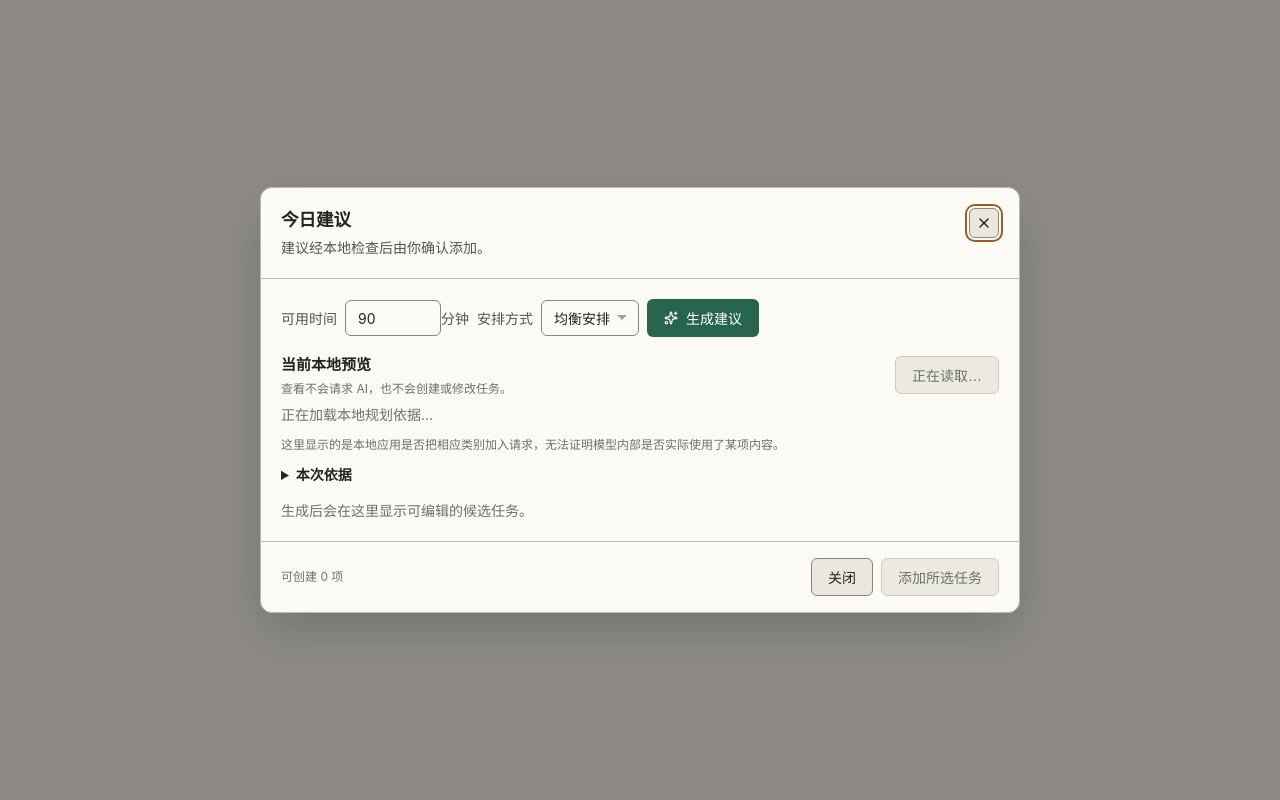
Test: TodayActionSuggestionDialog › distinguishes the first generation from replacement and starts B with fresh candidate state
Click the button with test id "ai-plan-generate": (703, 318) [647,299,759,337]
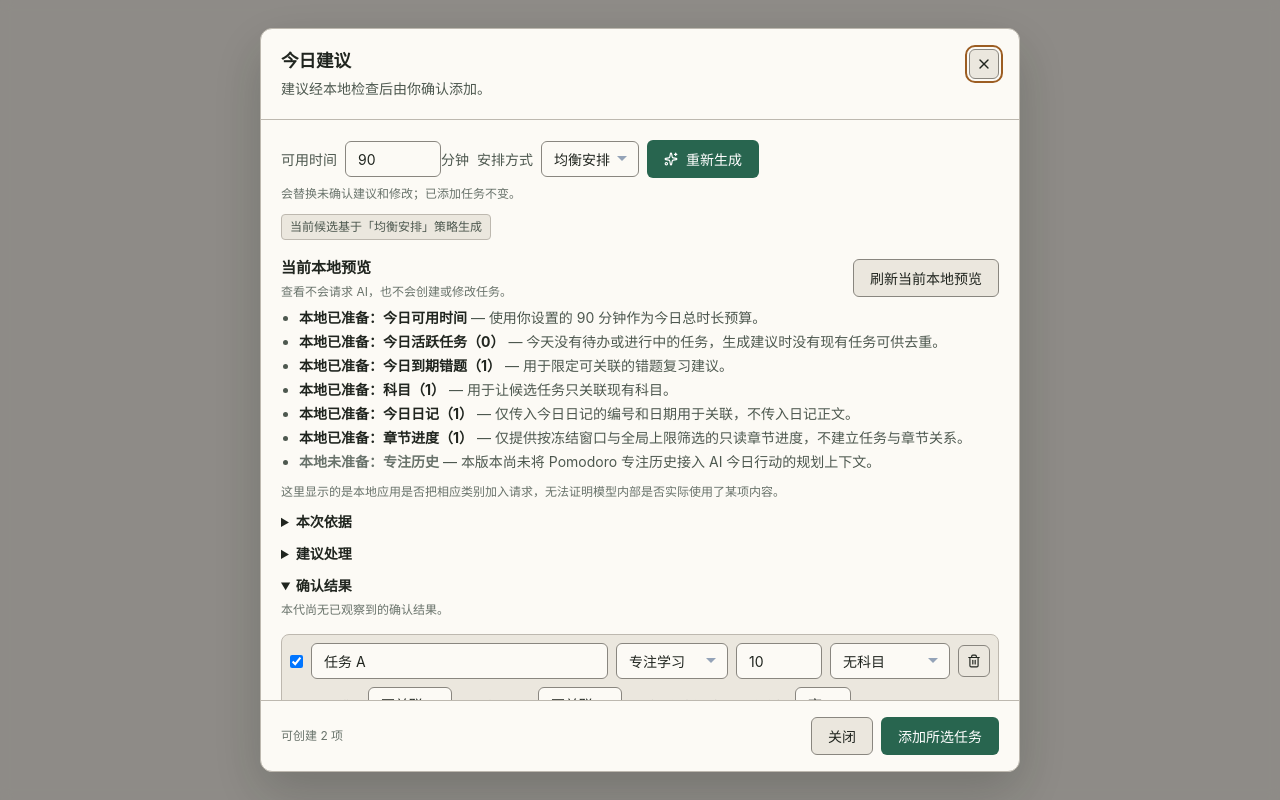
Check: the button with test id "ai-plan-generate" reads "重新生成", box [647,140,759,178]
Check: the text with test id "today-action-regeneration-warning" shows "会替换未确认建议和修改", box [281,186,521,201]
Check: the text with test id "today-action-regeneration-warning" shows "已添加任务不变", box [281,186,521,201]
Replace the text in the field showing "任务 A" with "用户修改的任务 A": (460, 661) [311,643,608,679]
(page scrolled)
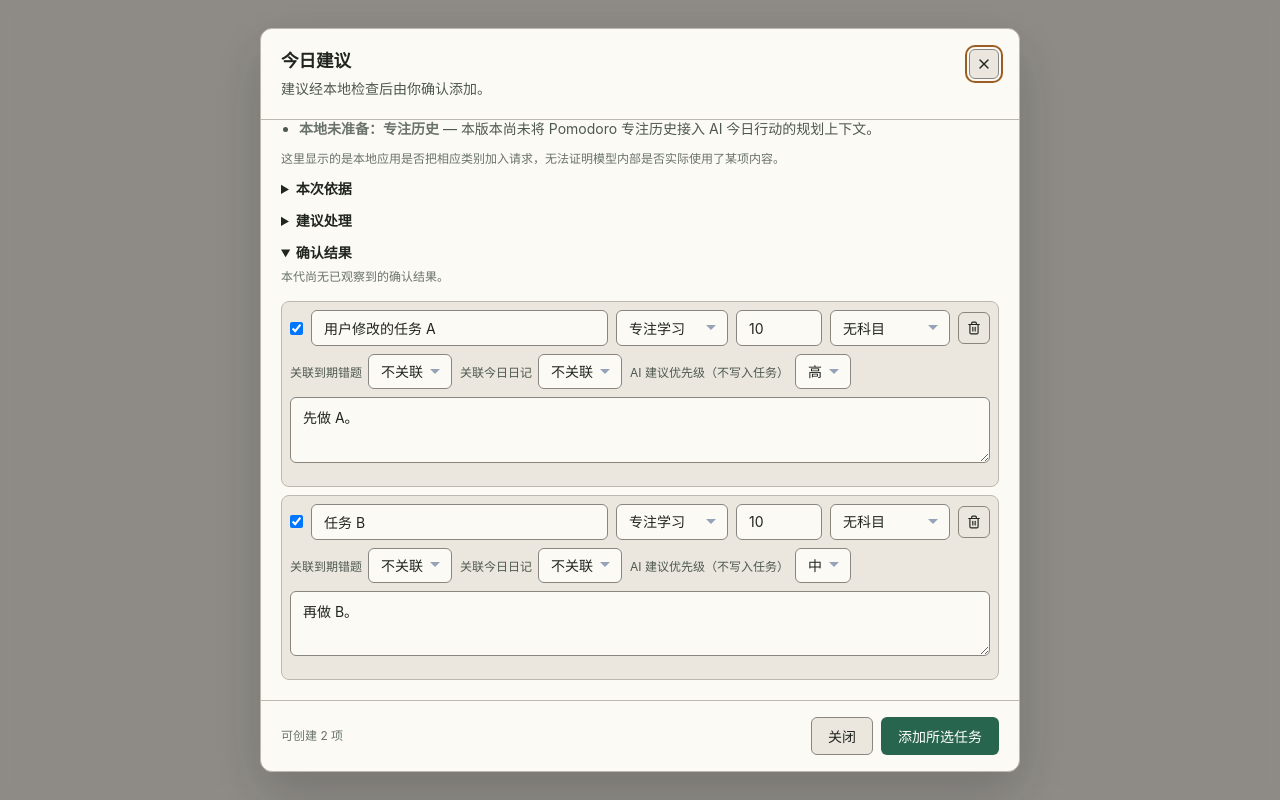
Click the checkbox named "选择 任务 B": (296, 522) [290,515,303,528]
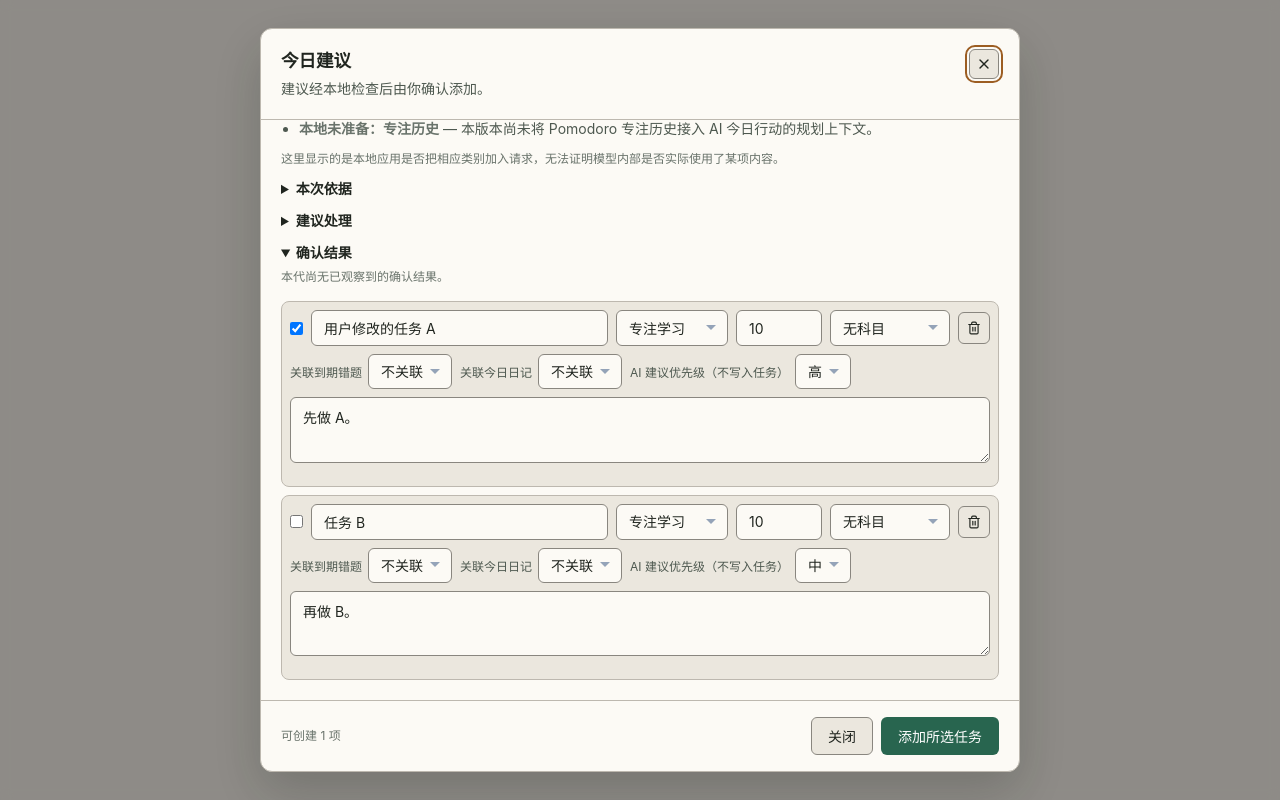
Click the button with test id "ai-plan-create-selected": (940, 736) [881,717,999,755]
(page scrolled)
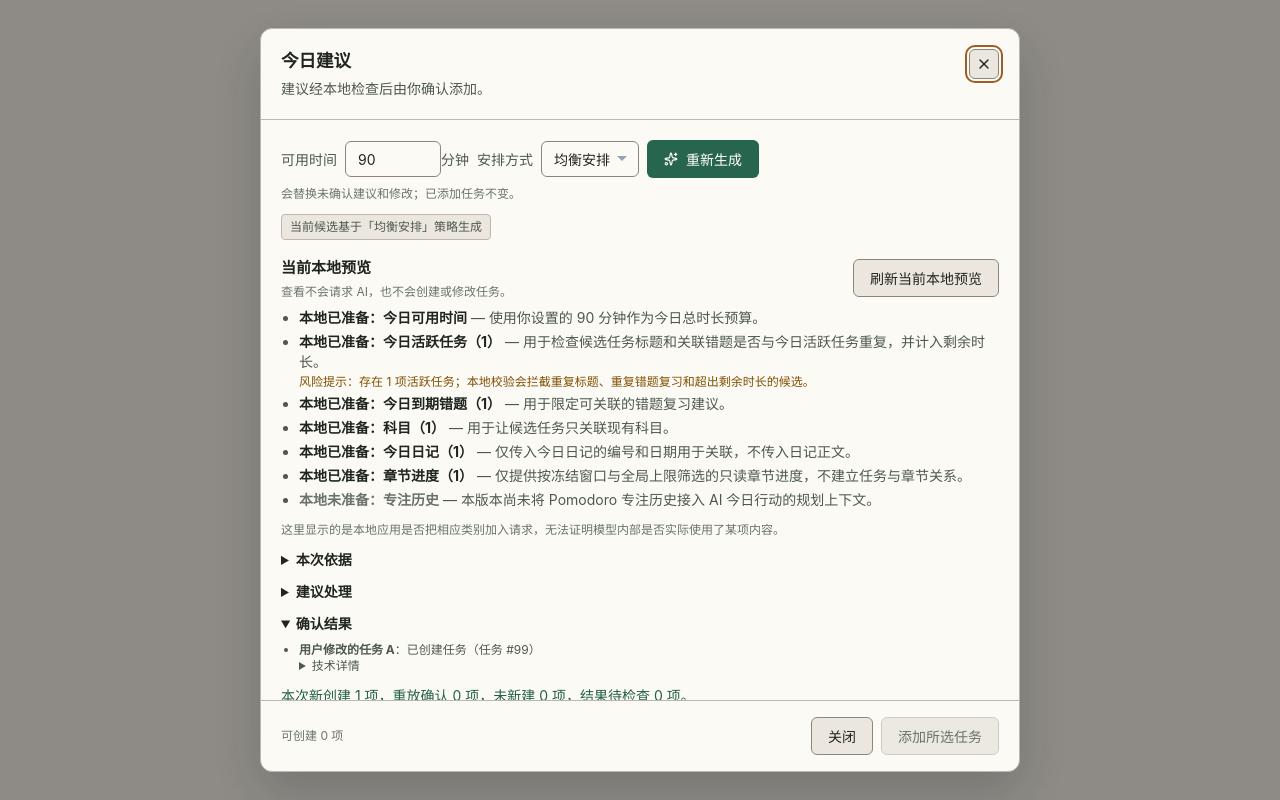
Check: the text "会替换未确认建议和修改；已添加任务不变。" is shown, box [281,186,521,201]
Click the button with test id "ai-plan-generate": (703, 159) [647,140,759,178]
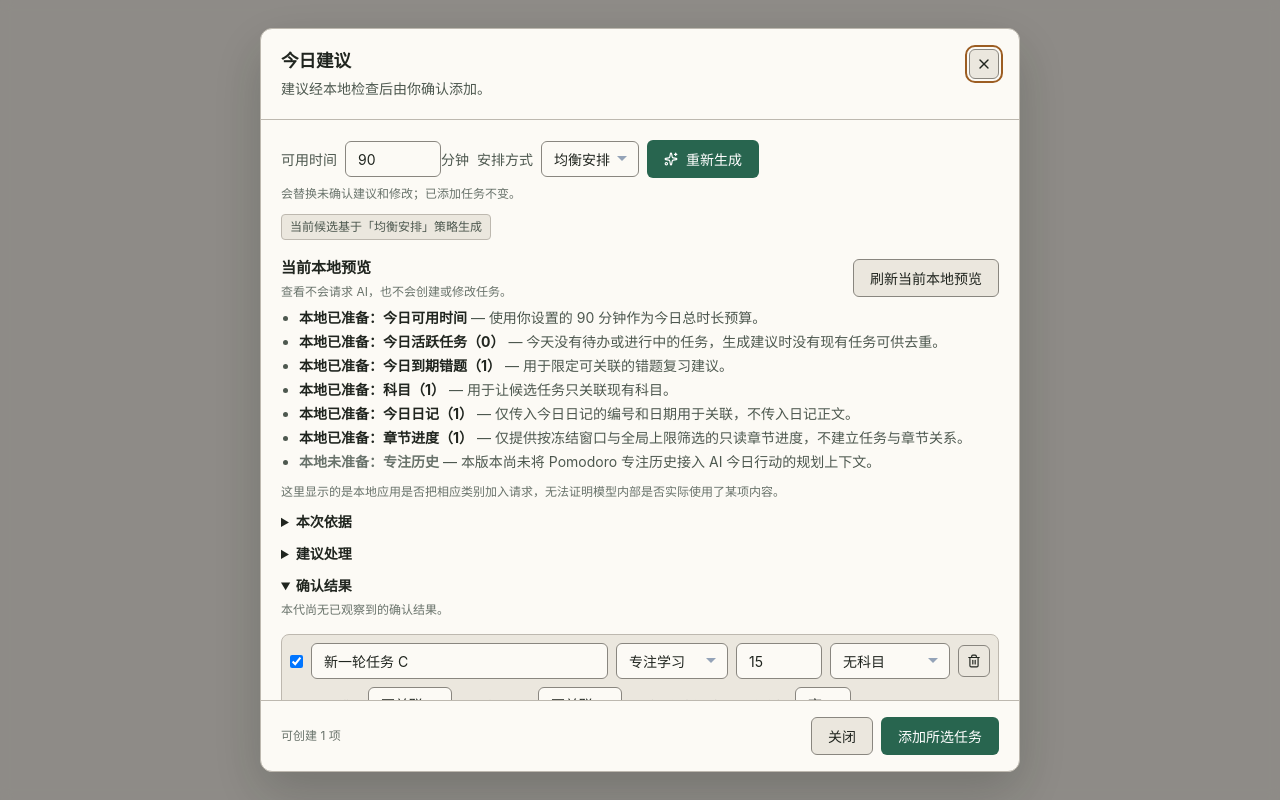
Check: the field showing "新一轮任务 C" is shown, box [311,643,608,679]
Check: the text showing "用户修改的任务 A" is gone
Check: the checkbox named "选择 新一轮任务 C" is checked, box [290,654,303,668]
